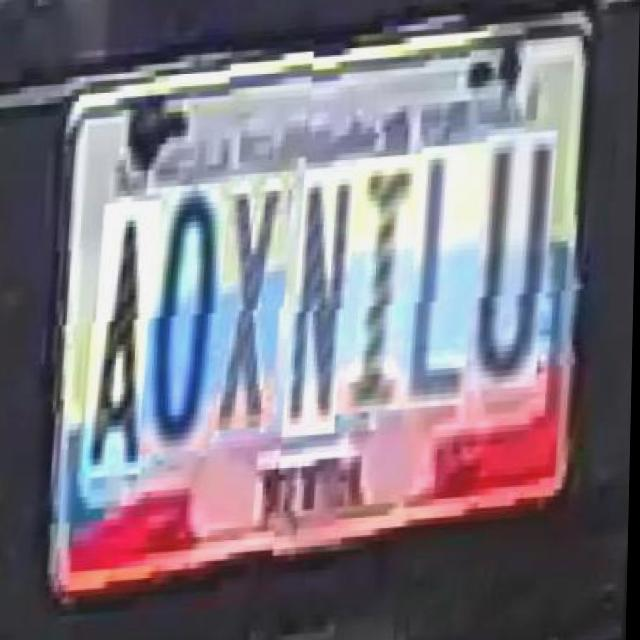a: (92, 210, 168, 487)
i: (345, 162, 432, 422)
l: (410, 152, 490, 417)
n: (292, 172, 361, 444)
o: (149, 192, 236, 465)
u: (474, 141, 561, 401)
x: (218, 182, 296, 442)
